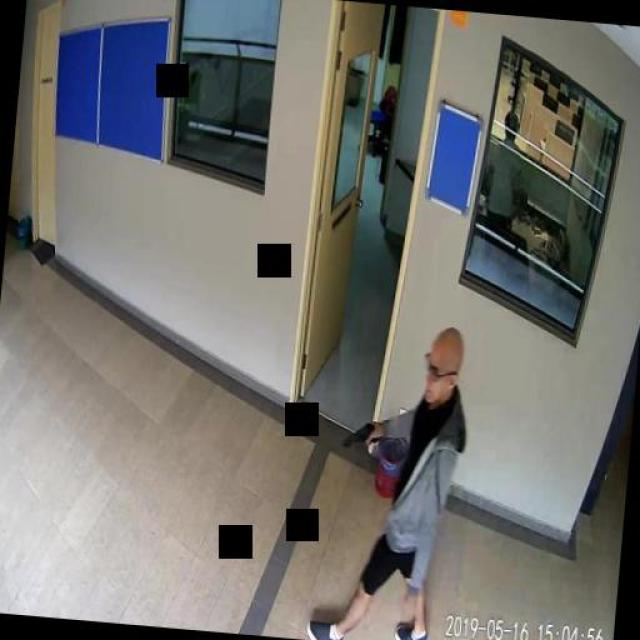gun: (342, 415, 380, 449)
